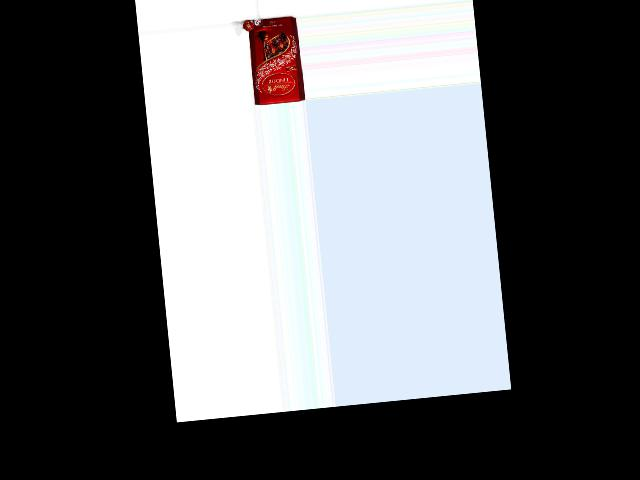chocolate: (241, 16, 304, 106)
